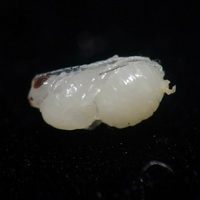insect: (28, 55, 175, 129)
